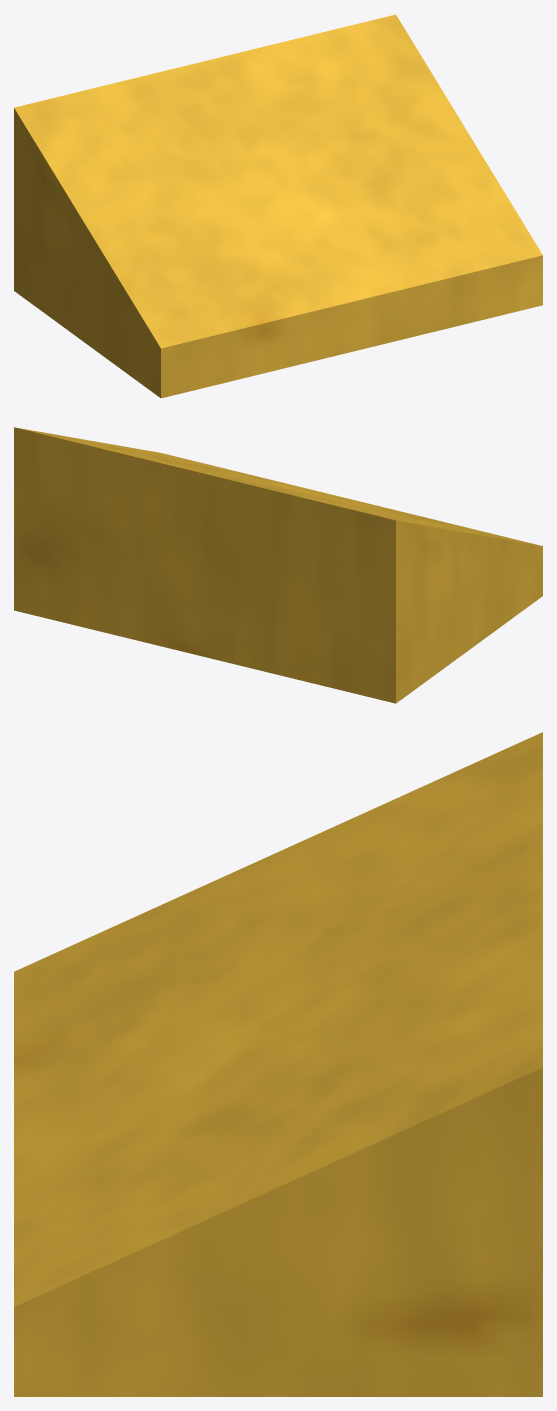
The model's file is Item_Cheese.fbx.
3 renders of one model, top to bottom at view 1: azimuth 30°, elevation 25°; view 2: azimuth 150°, elevation 25°; view 3: azimuth 270°, elevation 25°, orthographic. The views are drawn at different scales.
Visible parts, largest first — view 1: Item_Cheese; view 2: Item_Cheese; view 3: Item_Cheese.
Part boxes in pixels (left/top/right/bottom): Item_Cheese: left=14, top=14, right=542, bottom=398; Item_Cheese: left=14, top=427, right=542, bottom=703; Item_Cheese: left=14, top=732, right=542, bottom=1396.
Bounding box in the file's own units: 0.24 × 0.11 × 0.16.
Materials: 1 (1 with a texture image).
